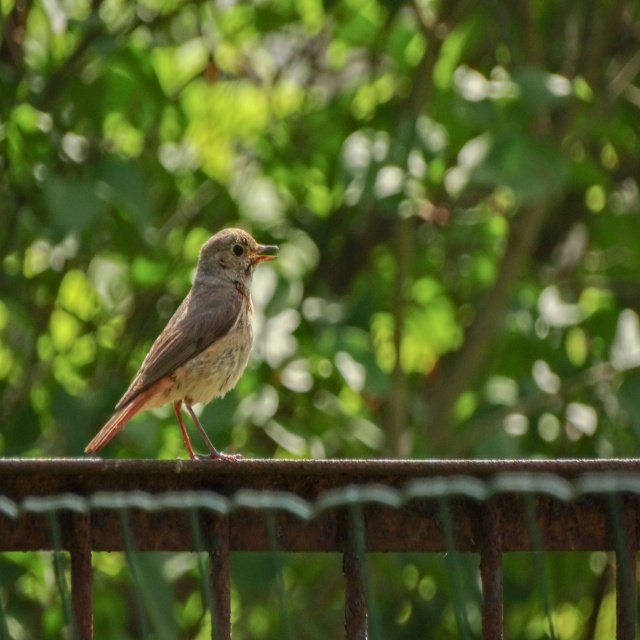Sparrow: (82, 223, 280, 463)
